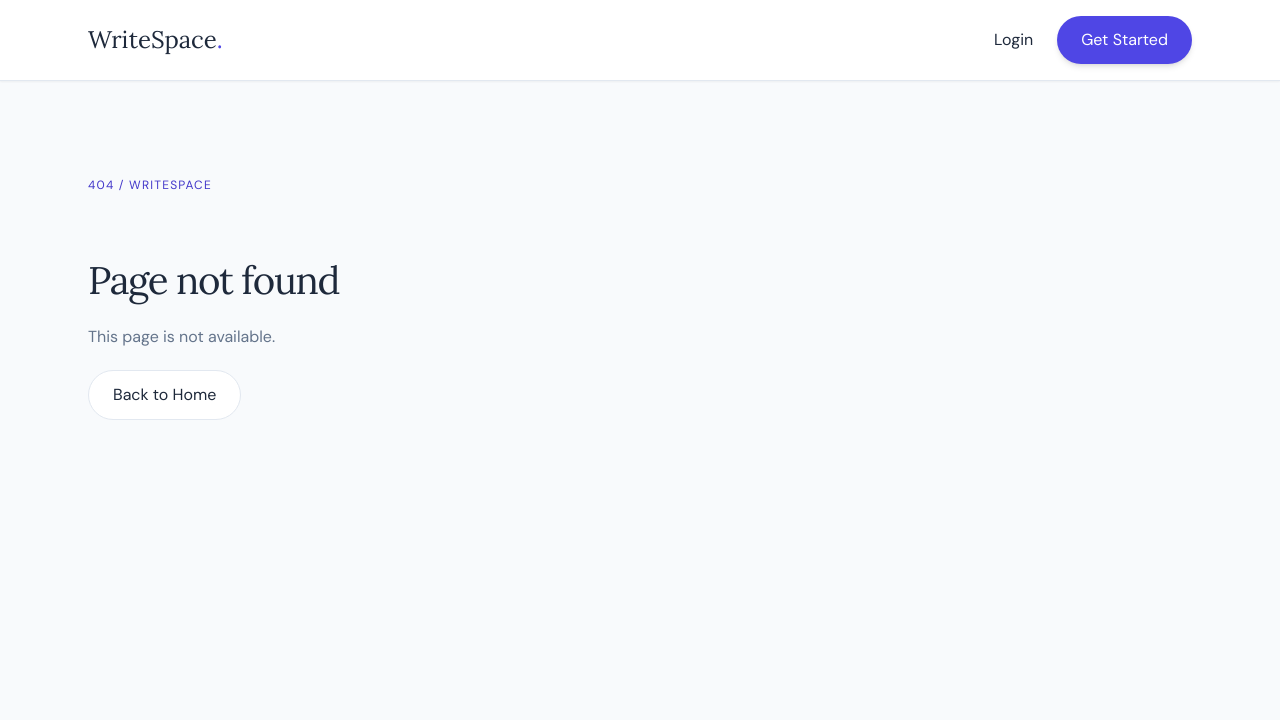
shows unknown route fallback and follows home link
The width and height of the screenshot is (1280, 720).
Click the link "Back to Home" at (165, 395), box [88,370,241,420]
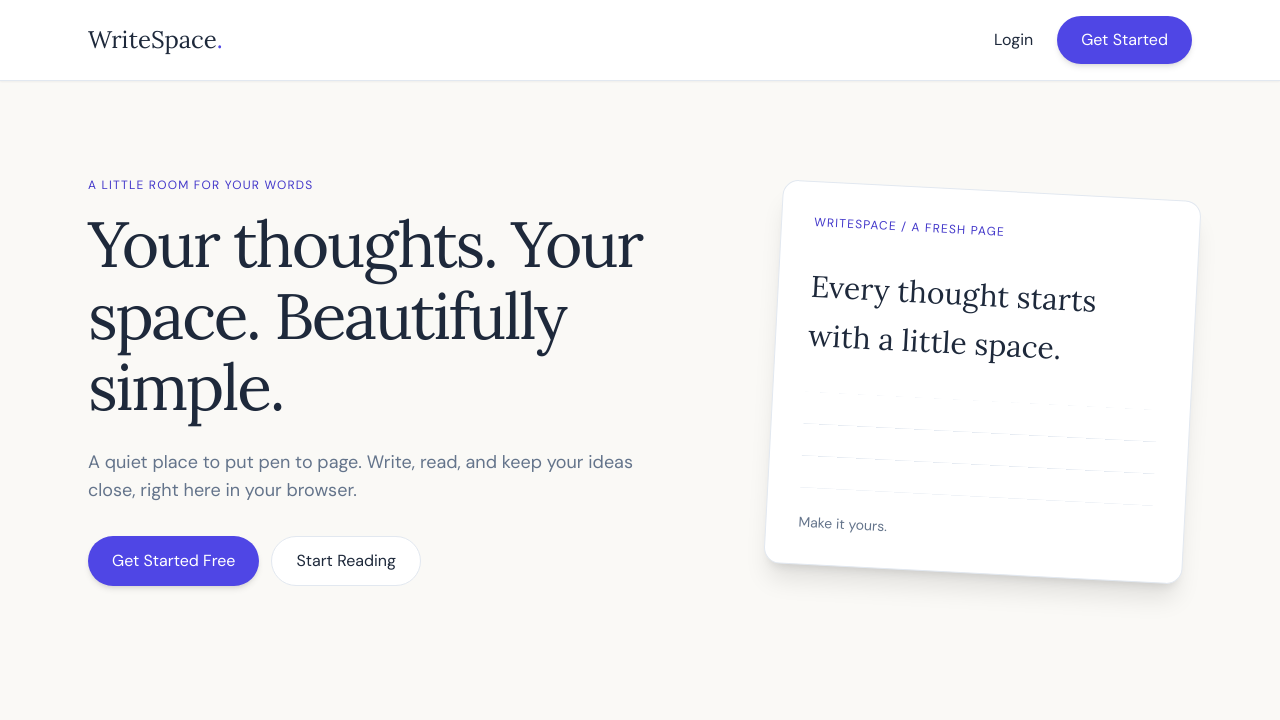
Expected: the heading shows "Your thoughts.", [88,203,642,428]
